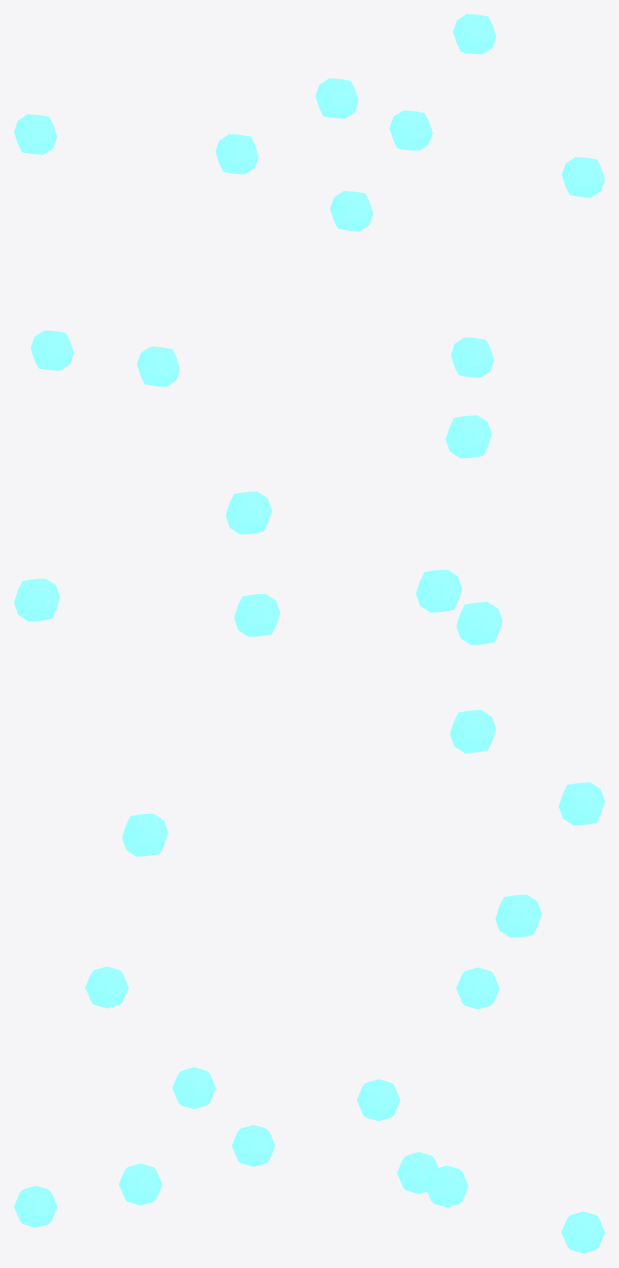
Rendered from Gluhwurmche3.fbx.
3 renders of one model, top to bottom at view 1: azimuth 30°, elevation 25°; view 2: azimuth 150°, elevation 25°; view 3: azimuth 270°, elevation 25°, orthographic. The views are drawn at different scales.
Visible parts, largest first — view 1: 立方体.009, 立方体.002, 立方体.006, 立方体.008, 立方体, 立方体.007, 立方体.005, 立方体.004, 立方体.001, 立方体.003; view 2: 立方体.005, 立方体.001, 立方体.003, 立方体.004, 立方体.008, 立方体.002, 立方体, 立方体.006, 立方体.007, 立方体.009; view 3: 立方体.005, 立方体.009, 立方体.006, 立方体.002, 立方体.003, 立方体.004, 立方体.001, 立方体.007, 立方体, 立方体.008.
Boxes of the visible parts, bbox=[...] form: 立方体.009: bbox=[315, 78, 358, 118]; 立方体.002: bbox=[215, 134, 258, 174]; 立方体.006: bbox=[14, 114, 57, 154]; 立方体.008: bbox=[30, 330, 73, 370]; 立方体: bbox=[451, 337, 493, 377]; 立方体.007: bbox=[330, 191, 373, 231]; 立方体.005: bbox=[389, 110, 432, 150]; 立方体.004: bbox=[453, 14, 496, 54]; 立方体.001: bbox=[561, 157, 604, 197]; 立方体.003: bbox=[137, 346, 179, 386]; 立方体.005: bbox=[445, 415, 491, 458]; 立方体.001: bbox=[225, 491, 271, 534]; 立方体.003: bbox=[558, 782, 604, 825]; 立方体.004: bbox=[14, 578, 60, 621]; 立方体.008: bbox=[495, 894, 541, 937]; 立方体.002: bbox=[122, 813, 167, 856]; 立方体: bbox=[456, 602, 502, 644]; 立方体.006: bbox=[450, 710, 495, 752]; 立方体.007: bbox=[416, 569, 461, 612]; 立方体.009: bbox=[234, 593, 280, 636]; 立方体.005: bbox=[85, 966, 128, 1008]; 立方体.009: bbox=[357, 1079, 400, 1121]; 立方体.006: bbox=[456, 967, 499, 1009]; 立方体.002: bbox=[561, 1211, 604, 1253]; 立方体.003: bbox=[232, 1125, 275, 1166]; 立方体.004: bbox=[425, 1165, 468, 1207]; 立方体.001: bbox=[119, 1163, 162, 1205]; 立方体.007: bbox=[172, 1067, 215, 1108]; 立方体: bbox=[14, 1186, 57, 1227]; 立方体.008: bbox=[397, 1152, 438, 1193].
Size of the model in its own units: 163 by 106 by 176.
